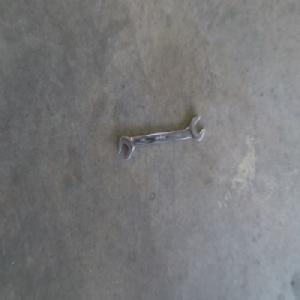Wrench: (118, 115, 206, 159)
